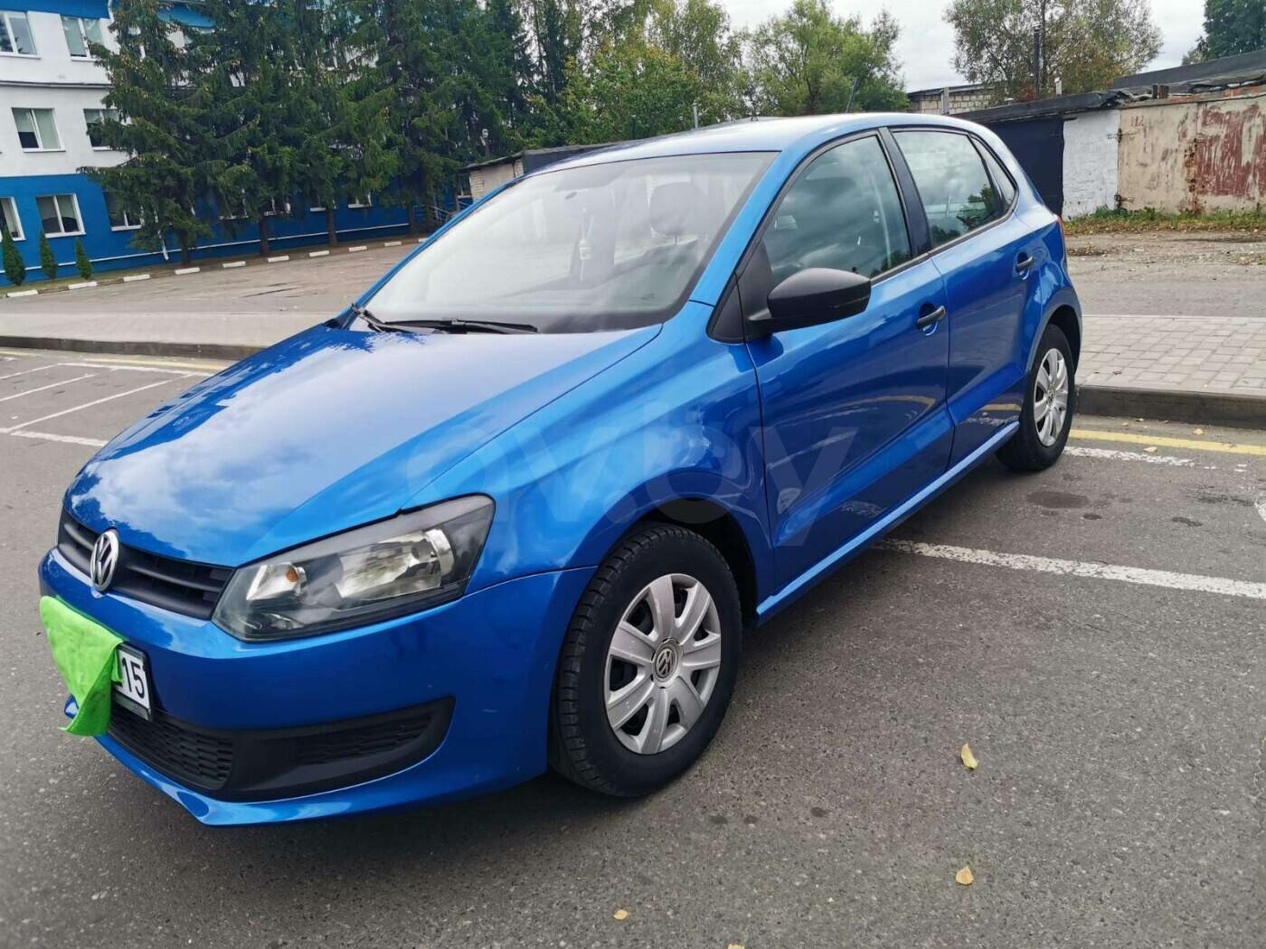Polo_2009-2015: (34, 91, 1106, 870)
